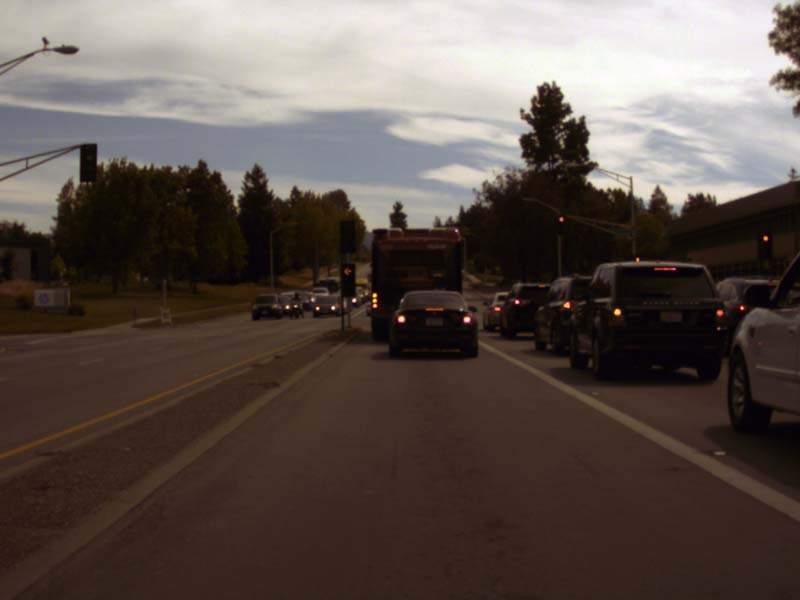Red: (341, 265, 353, 295), (758, 234, 770, 258), (557, 215, 564, 233), (634, 255, 640, 268)
